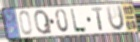0: (18, 10, 35, 37), (54, 9, 70, 34)
L: (69, 8, 88, 33)
Q: (33, 9, 53, 36)
T: (91, 6, 105, 31)
U: (105, 5, 126, 32)
